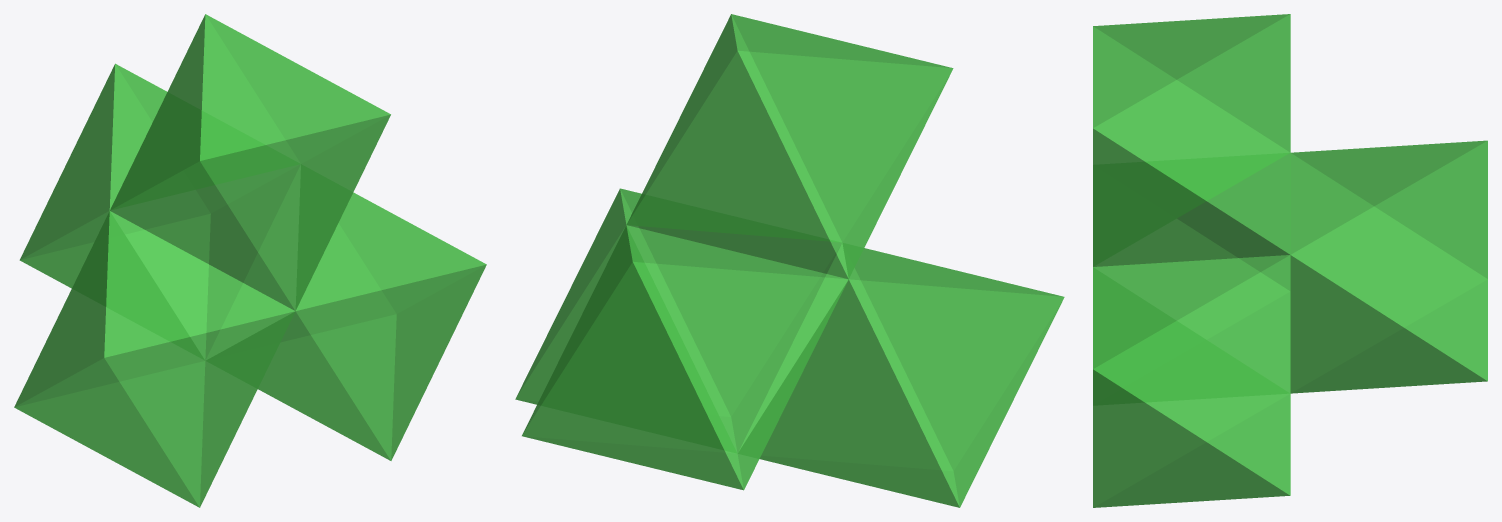
Rendered from 02_Tetragyraugmented_Tetrahedron.obj.
3 renders of one model, left to right at view 1: azimuth 30°, elevation 25°; view 2: azimuth 150°, elevation 25°; view 3: azimuth 270°, elevation 25°, orthographic. The views are drawn at different scales.
Bounding box in the file's own units: 2 × 2.02 × 1.63.
